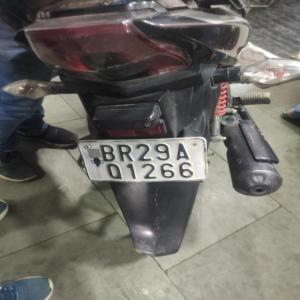Plate: (80, 137, 206, 183)
